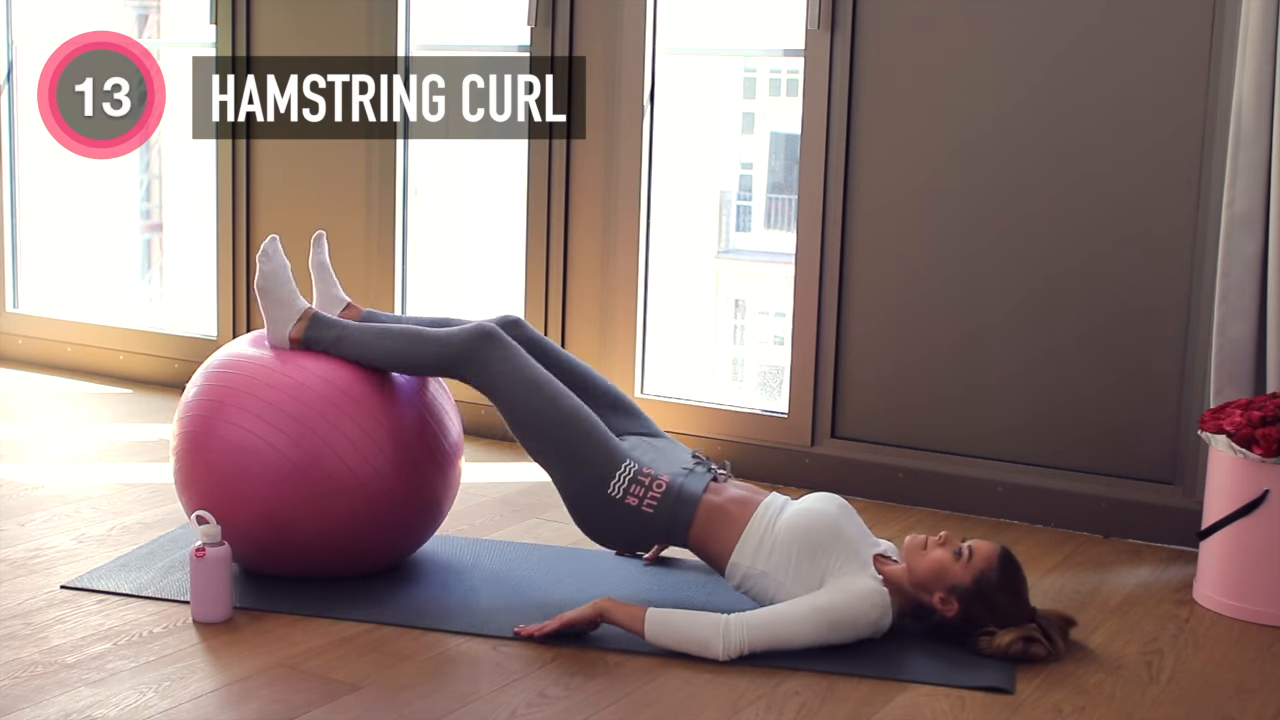yogaball: (164, 321, 469, 583)
